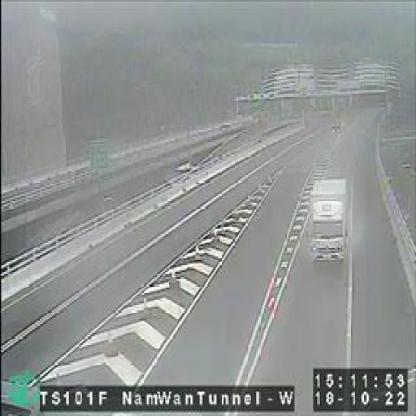Truck: (307, 176, 350, 267)
